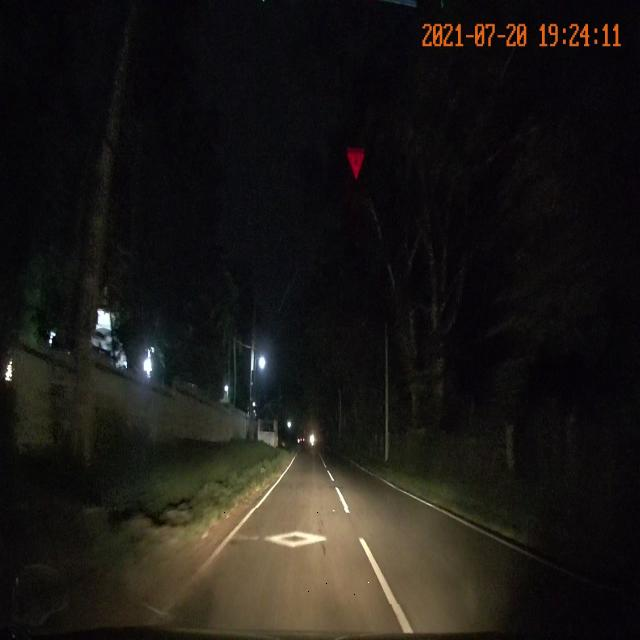diamond: (212, 508, 405, 604)
